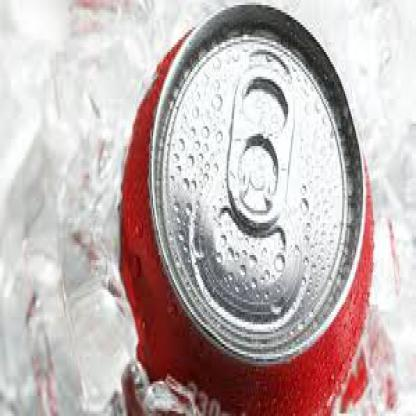METAL: (120, 2, 373, 414)
